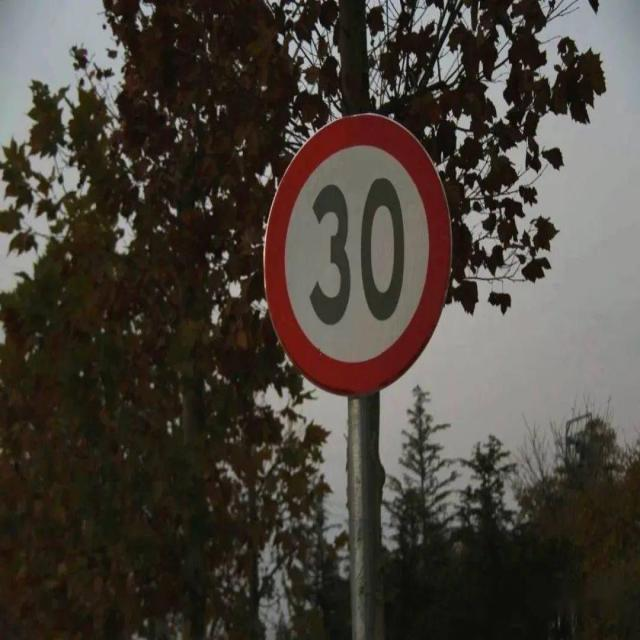speed limit 30: (264, 111, 452, 395)
